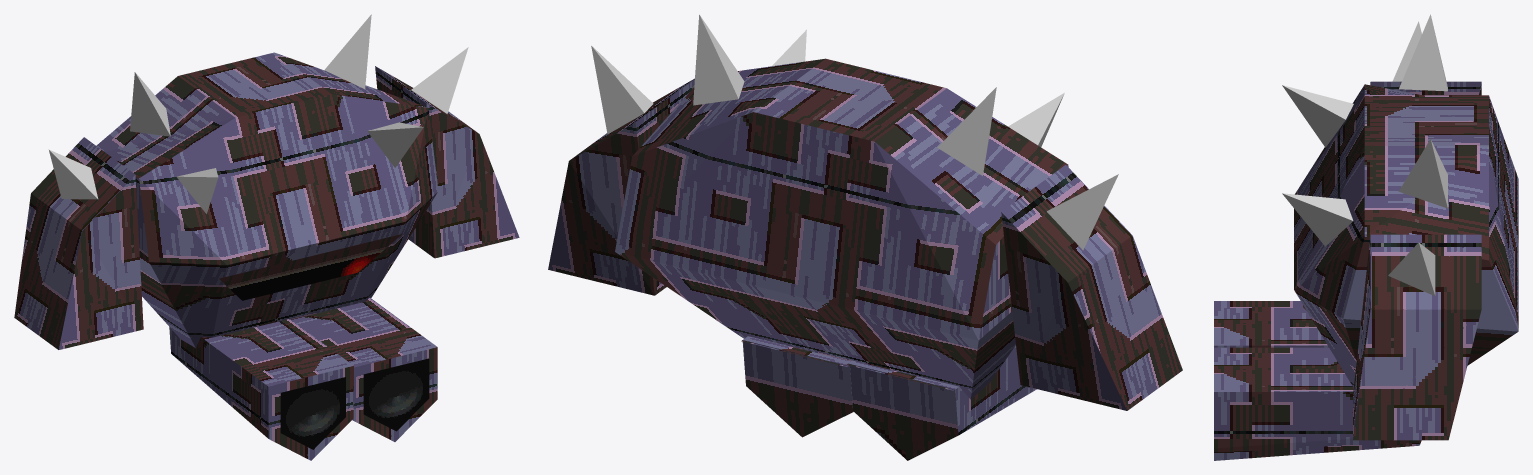
Rendered from model_025_robot_noname.glb.
3 views of the same model, side by side, from view 1: azimuth 30°, elevation 25°; view 2: azimuth 150°, elevation 25°; view 3: azimuth 270°, elevation 25° (orthographic). The views are drawn at different scales.
Visible parts, largest first — view 1: model_025; view 2: model_025; view 3: model_025.
Boxes of the visible parts, box(x1,y1,x2,y2) form: model_025: box(14, 14, 519, 460); model_025: box(548, 14, 1182, 460); model_025: box(1214, 14, 1518, 460).
Bounding box in the file's own units: 14.96 × 10.43 × 8.
Materials: 4 (3 with a texture image).
